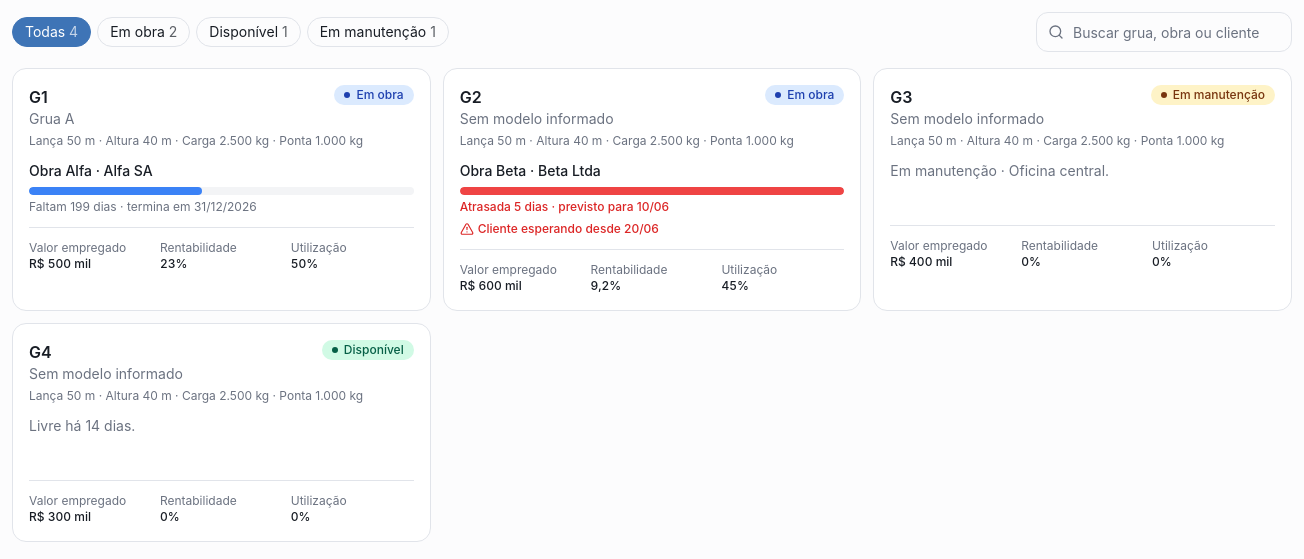
Scenario: aba Gruas › filtro por situação com contagem, e some a opção sem nenhuma grua
Expected: the button "Todas 4" is shown, [12,17,91,47]
Click the button "Em obra 2". click: (144, 32)
box: [97,17,190,47]
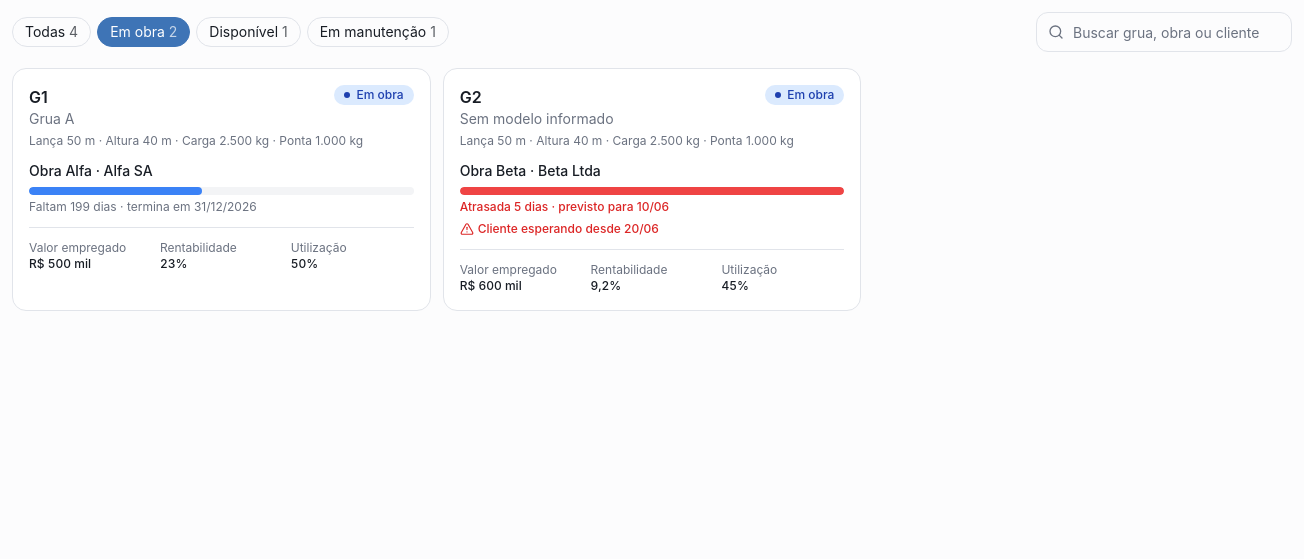
Click the button "Disponível 1". click: (249, 32)
box: [196,17,301,47]
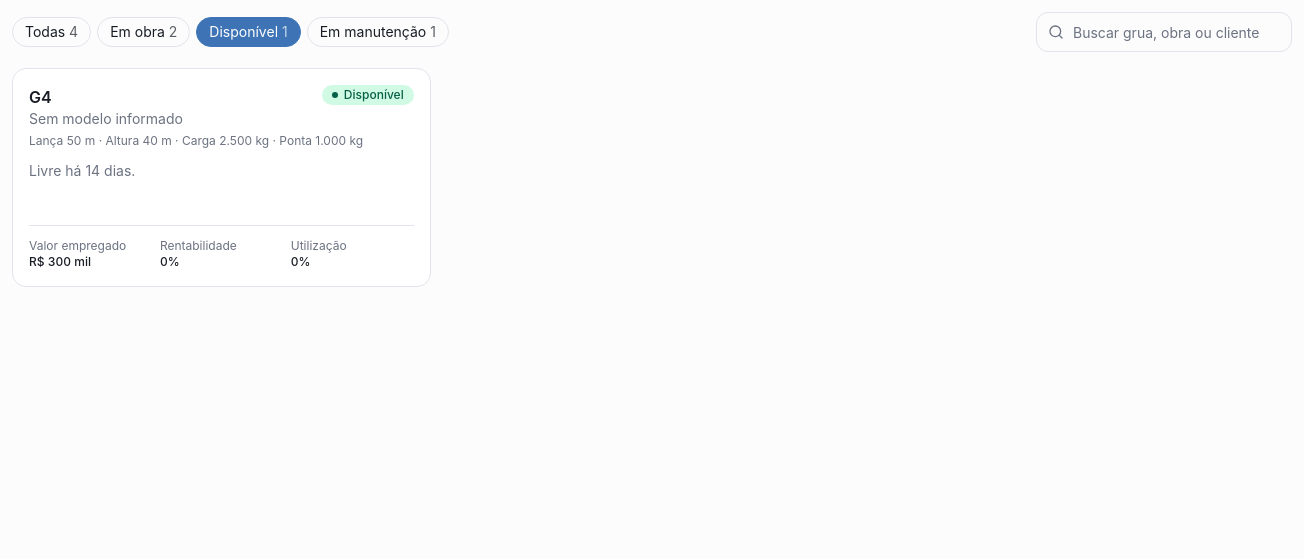
Expected: the number of links is 1, [12,68,431,287]
